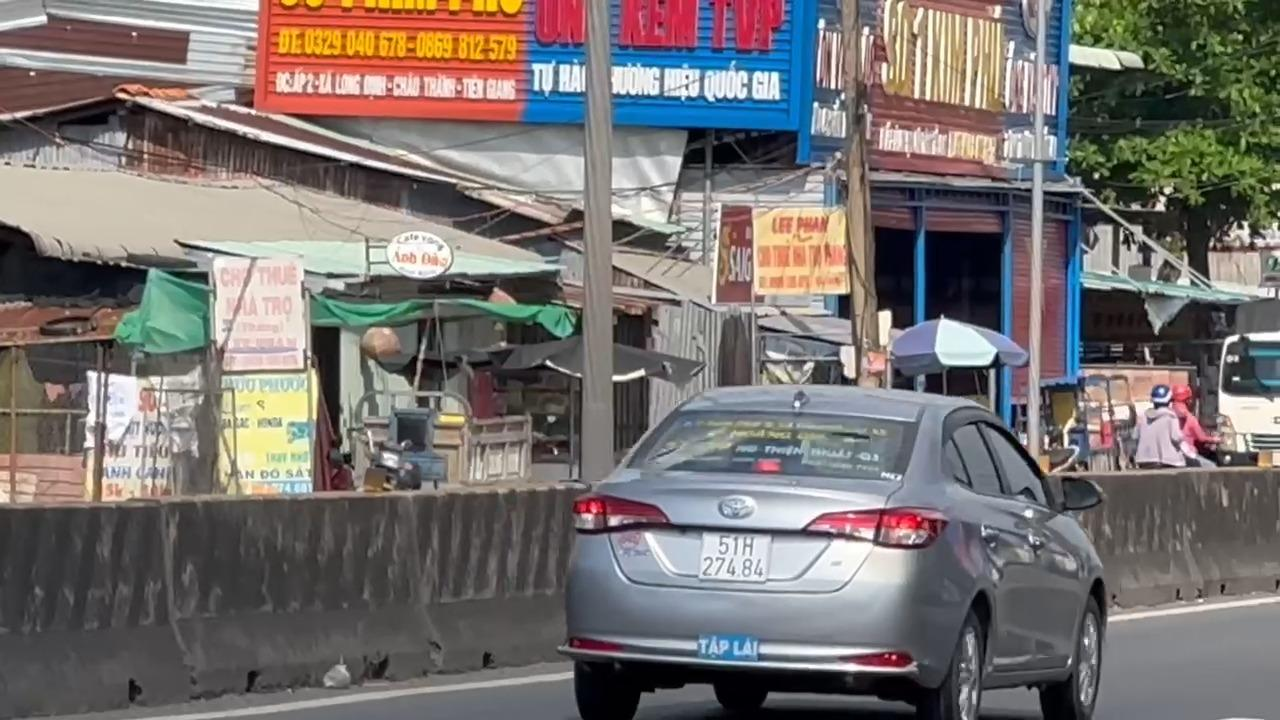bien_so: (697, 531, 771, 583)
